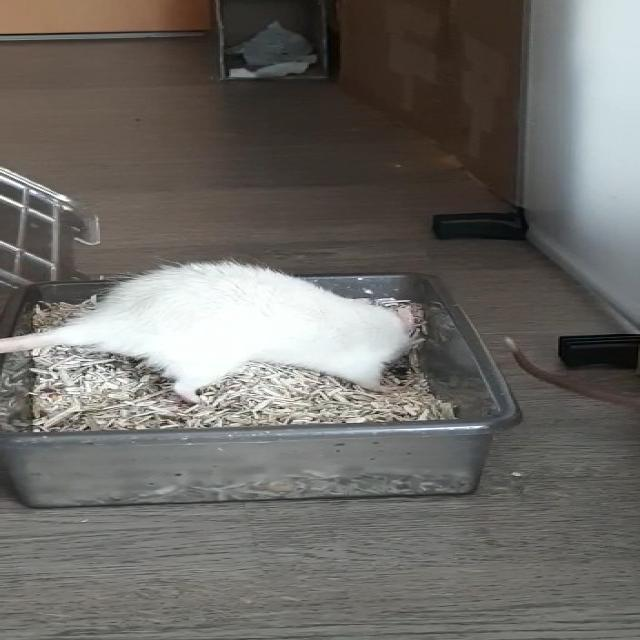rat: (90, 262, 405, 394)
